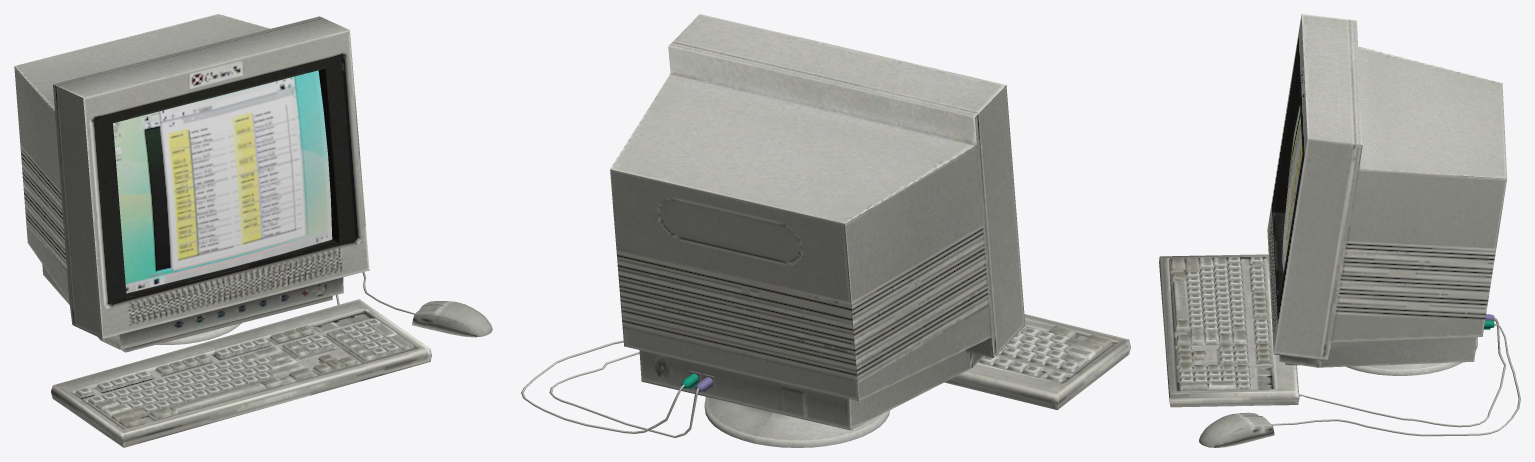
File: sm74_051_labopc01b.fbx
3 renders of one model, left to right at view 1: azimuth 30°, elevation 25°; view 2: azimuth 150°, elevation 25°; view 3: azimuth 270°, elevation 25°, orthographic. The views are drawn at different scales.
Visible parts, largest first — view 1: LOD_1_Group_0_Sub_1__sm74_050_LaboPC01A_A_Mat__Env_default, LOD_1_Group_0_Sub_2__sm74_050_LaboPC01A_B_Mat__Env_Emissive; view 2: LOD_1_Group_0_Sub_1__sm74_050_LaboPC01A_A_Mat__Env_default, LOD_1_Group_0_Sub_3__sm31_068_IntegratedPc01A_A_Mat; view 3: LOD_1_Group_0_Sub_1__sm74_050_LaboPC01A_A_Mat__Env_default, LOD_1_Group_0_Sub_3__sm31_068_IntegratedPc01A_A_Mat, LOD_1_Group_0_Sub_2__sm74_050_LaboPC01A_B_Mat__Env_Emissive.
Boxes of the visible parts, left/top/right/bottom form: LOD_1_Group_0_Sub_1__sm74_050_LaboPC01A_A_Mat__Env_default: left=14, top=14, right=492, bottom=447; LOD_1_Group_0_Sub_2__sm74_050_LaboPC01A_B_Mat__Env_Emissive: left=113, top=70, right=332, bottom=293; LOD_1_Group_0_Sub_1__sm74_050_LaboPC01A_A_Mat__Env_default: left=610, top=14, right=1130, bottom=447; LOD_1_Group_0_Sub_3__sm31_068_IntegratedPc01A_A_Mat: left=521, top=340, right=712, bottom=437; LOD_1_Group_0_Sub_1__sm74_050_LaboPC01A_A_Mat__Env_default: left=1159, top=14, right=1506, bottom=447; LOD_1_Group_0_Sub_3__sm31_068_IntegratedPc01A_A_Mat: left=1271, top=314, right=1520, bottom=436; LOD_1_Group_0_Sub_2__sm74_050_LaboPC01A_B_Mat__Env_Emissive: left=1282, top=105, right=1302, bottom=272.
Bounding box in the file's own units: 0.6102 × 0.417 × 0.5051.
